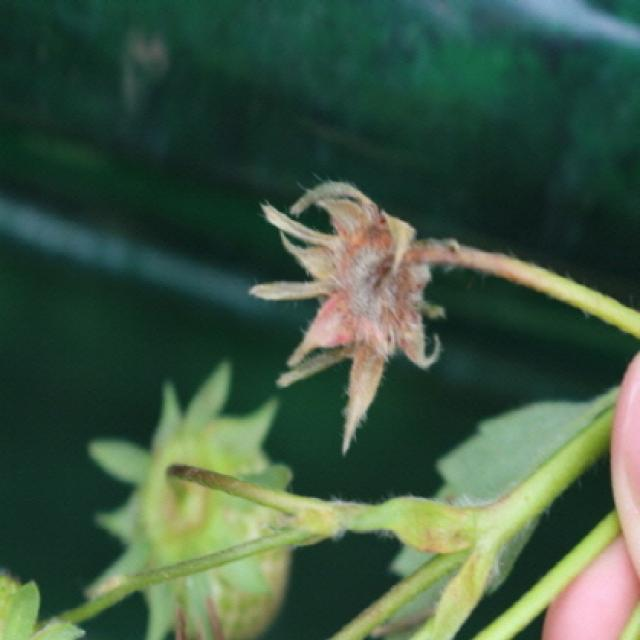Gray Mold: (248, 180, 462, 460)
